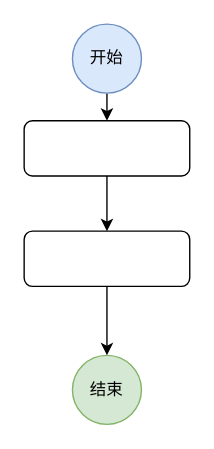
Image size: 214x449. Some labels were removed from this diagram. The centre of each missing label's shape, as x and y in pixels:
接收人: pixel 106 258
直属领导: pixel 106 147
